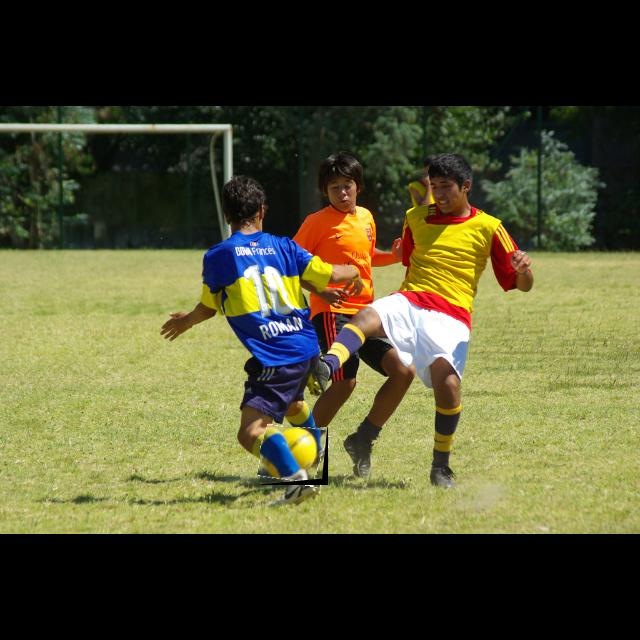Football: (260, 427, 328, 485)
